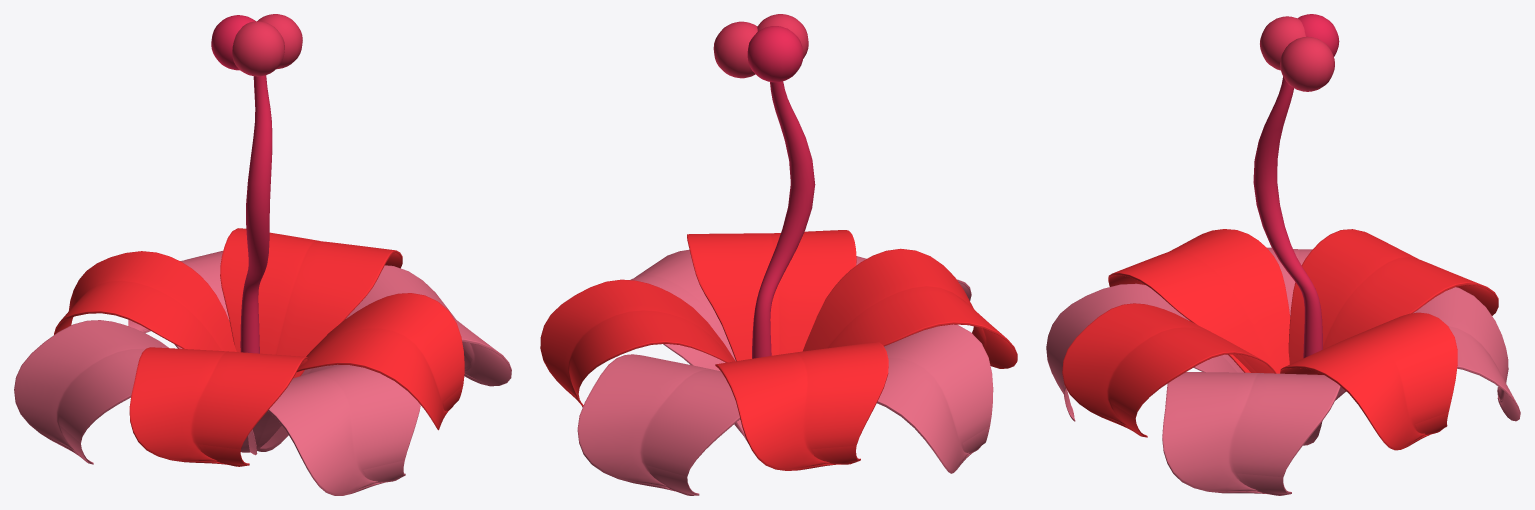
Rendered from Flower.fbx.
3 views of the same model, side by side, from view 1: azimuth 30°, elevation 25°; view 2: azimuth 150°, elevation 25°; view 3: azimuth 270°, elevation 25° (orthographic). The views are drawn at different scales.
Visible parts, largest first — view 1: Sphere.001; view 2: Sphere.001; view 3: Sphere.001.
Boxes of the visible parts, left/top/right/bottom form: Sphere.001: left=14, top=14, right=511, bottom=495; Sphere.001: left=540, top=14, right=1017, bottom=495; Sphere.001: left=1046, top=14, right=1520, bottom=495.
Bounding box in the file's own units: 1589 × 1630 × 1640.
